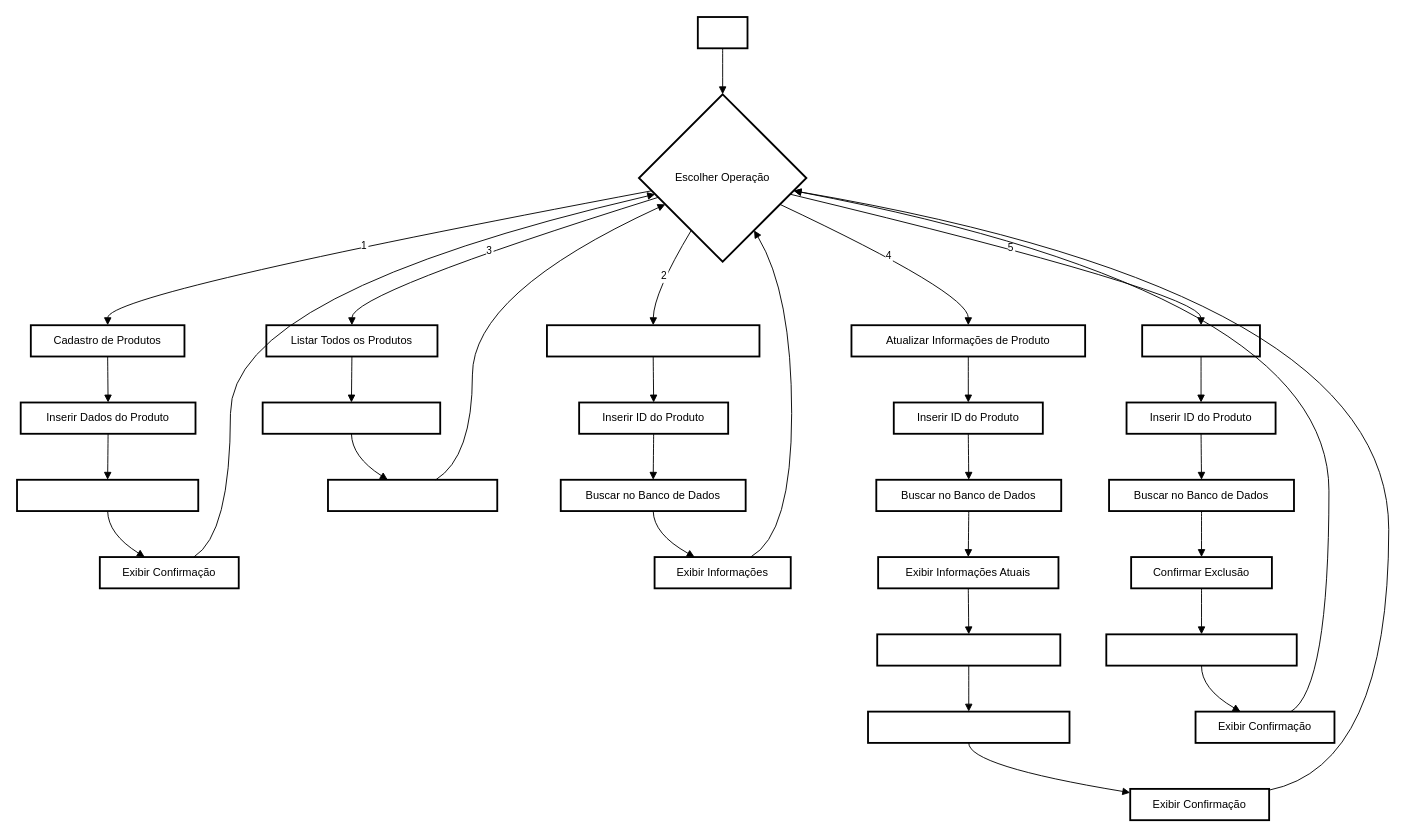
The diagram is 1405 pixels wide and 836 high, and some of its shapes have lost their labels. Each missing label, with the centre of its shape:
Atualizar no Banco de Dados: point (968, 726)
Buscar Todos os Produtos: point (351, 417)
Deletar do Banco de Dados: point (1201, 649)
Deletar Produto: point (1200, 340)
Exibir Informações de Produto: point (653, 340)
Exibir Lista de Produtos: point (412, 495)
Inserir Novas Informações: point (968, 649)
Início: point (722, 32)
Salvar no Banco de Dados: point (107, 495)
